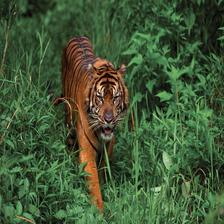tiger: (58, 40, 131, 220)
